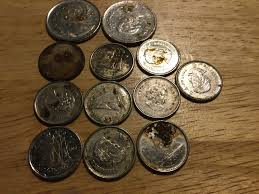coin: (28, 127, 81, 180), (83, 127, 134, 178), (137, 121, 188, 172), (102, 1, 155, 43), (46, 0, 100, 41), (34, 82, 82, 124), (84, 82, 131, 124), (133, 76, 179, 118), (176, 61, 222, 101), (38, 42, 84, 80), (90, 43, 133, 80), (137, 39, 179, 74)
